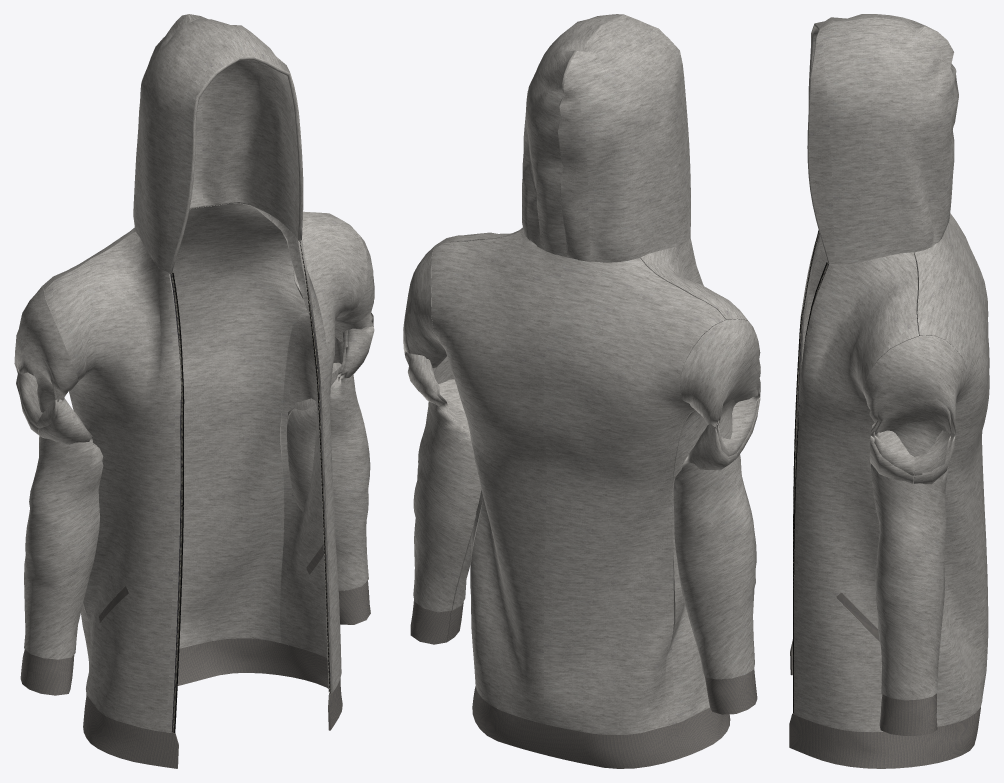
The model's file is hoodie.glb.
3 views of the same model, side by side, from view 1: azimuth 30°, elevation 25°; view 2: azimuth 150°, elevation 25°; view 3: azimuth 270°, elevation 25° (orthographic).
Visible parts, largest first — view 1: Hoodie_Material3758_0; view 2: Hoodie_Material3758_0; view 3: Hoodie_Material3758_0.
Part boxes in pixels (box(x1,y1,x2,y2)): Hoodie_Material3758_0: box(14, 14, 374, 768); Hoodie_Material3758_0: box(403, 14, 760, 768); Hoodie_Material3758_0: box(789, 14, 989, 768).
Bounding box in the file's own units: 0.3752 × 0.74 × 0.1915.
3 materials, 3 textured.
